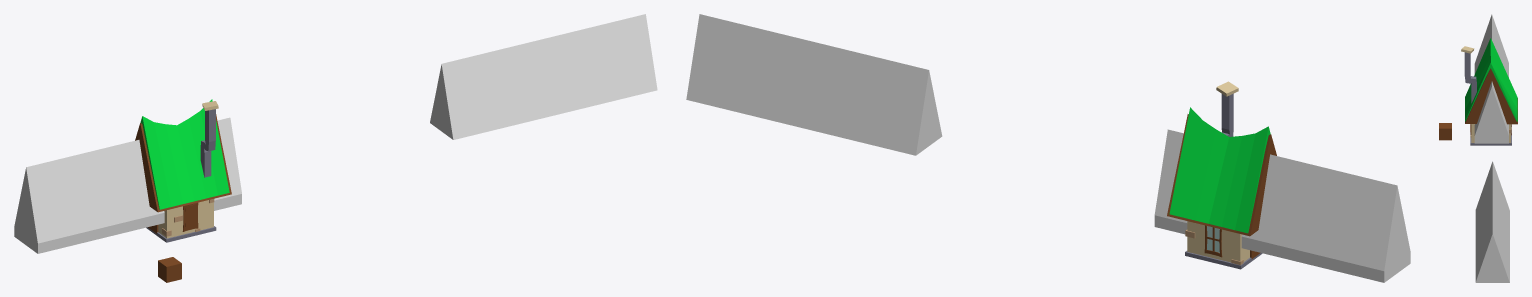
The model's file is HouseGreen.fbx.
3 views of the same model, side by side, from view 1: azimuth 30°, elevation 25°; view 2: azimuth 150°, elevation 25°; view 3: azimuth 270°, elevation 25° (orthographic). The views are drawn at different scales.
Parts seen in each view (by area): view 1: divider, Roof, UnderLayer, Base, divWindow.001, Pole; view 2: divider, Roof, UnderLayer, Base, Pole; view 3: divider, Roof, UnderLayer, Pole, divWindow.001, BaseConcrete, Base, PoleTop.
Boxes of the visible parts, x1,y1,x2,y2 form: divider: (14, 14, 657, 253); Roof: (140, 99, 229, 209); UnderLayer: (135, 114, 231, 212); Base: (158, 200, 213, 238); divWindow.001: (158, 203, 196, 282); Pole: (200, 109, 215, 177); divider: (686, 14, 1410, 282); Roof: (1169, 107, 1270, 233); UnderLayer: (1167, 114, 1276, 236); Base: (1187, 221, 1249, 262); Pole: (1221, 93, 1233, 136); divider: (1474, 14, 1509, 282); Roof: (1465, 38, 1517, 121); UnderLayer: (1465, 68, 1517, 124); Pole: (1464, 52, 1476, 103); divWindow.001: (1439, 123, 1470, 140); BaseConcrete: (1470, 126, 1511, 145); Base: (1471, 124, 1510, 142); PoleTop: (1461, 46, 1474, 53).
Size of the model in its own units: 2635 by 609 by 397.
